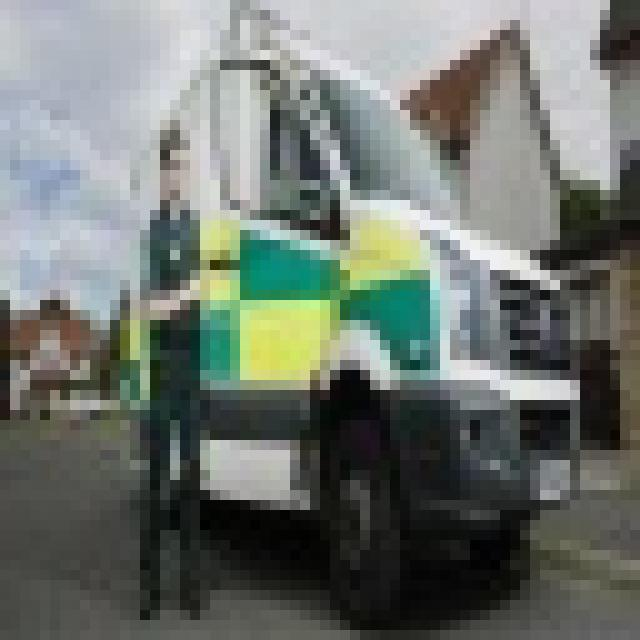Ambulance: (110, 0, 580, 620)
